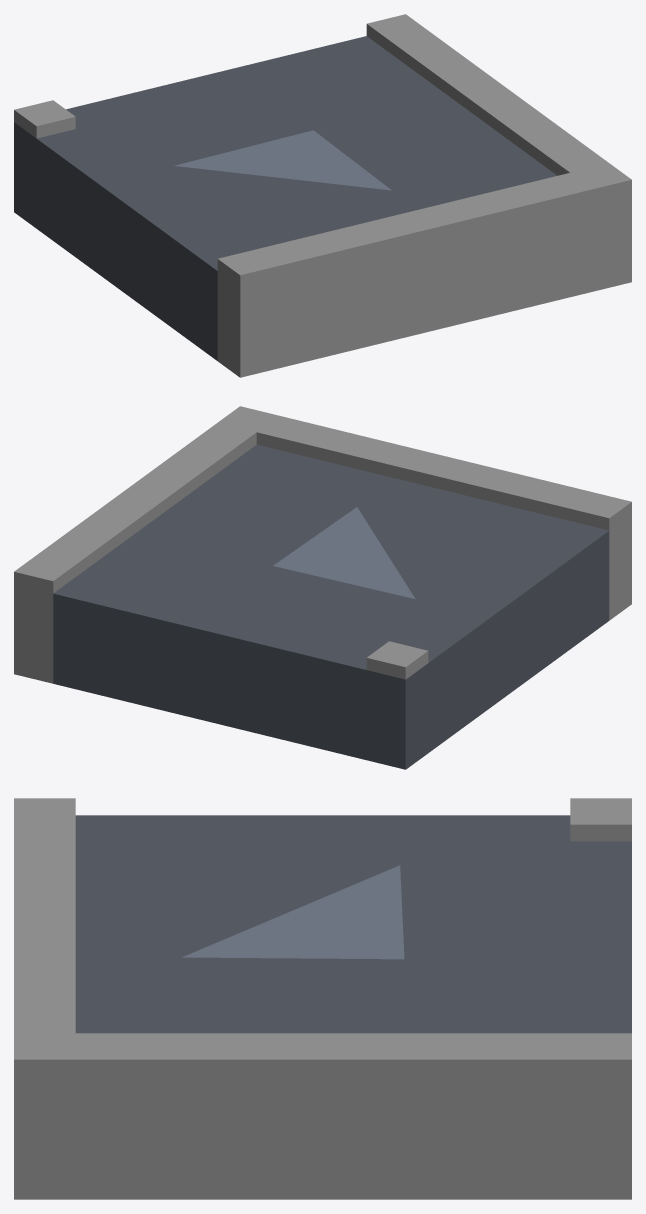
Rendered from vfef_turn_left.obj.
3 views of the same model, one above another, from view 1: azimuth 30°, elevation 25°; view 2: azimuth 150°, elevation 25°; view 3: azimuth 270°, elevation 25° (orthographic). The views are drawn at different scales.
Visible parts, largest first — view 1: vfef_turn_left_0, vfef_turn_left_3, vfef_turn_left_2, vfef_turn_left_1, vfef_turn_left_4; view 2: vfef_turn_left_0, vfef_turn_left_2, vfef_turn_left_3, vfef_turn_left_1, vfef_turn_left_4; view 3: vfef_turn_left_0, vfef_turn_left_2, vfef_turn_left_3, vfef_turn_left_1, vfef_turn_left_4.
Boxes of the visible parts, left/top/right/bottom form: vfef_turn_left_0: left=14, top=36, right=557, bottom=360; vfef_turn_left_3: left=217, top=173, right=592, bottom=377; vfef_turn_left_2: left=366, top=14, right=631, bottom=291; vfef_turn_left_1: left=174, top=130, right=391, bottom=190; vfef_turn_left_4: left=14, top=100, right=75, bottom=138; vfef_turn_left_0: left=53, top=444, right=609, bottom=769; vfef_turn_left_2: left=14, top=406, right=278, bottom=683; vfef_turn_left_3: left=256, top=415, right=631, bottom=620; vfef_turn_left_1: left=273, top=507, right=415, bottom=598; vfef_turn_left_4: left=366, top=641, right=428, bottom=679; vfef_turn_left_0: left=75, top=815, right=631, bottom=1033; vfef_turn_left_2: left=14, top=1033, right=631, bottom=1199; vfef_turn_left_3: left=14, top=798, right=75, bottom=1033; vfef_turn_left_1: left=182, top=865, right=404, bottom=959; vfef_turn_left_4: left=570, top=798, right=631, bottom=841.
Bounding box in the file's own units: 1 × 0.25 × 1.
